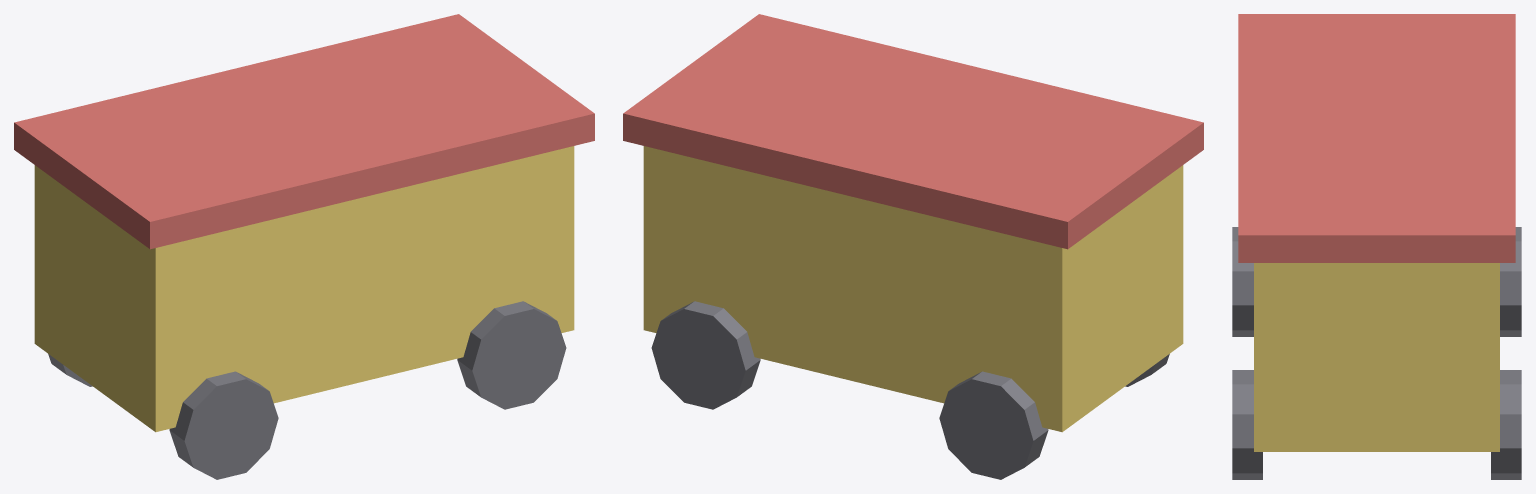
File: vagon.glb
3 renders of one model, left to right at view 1: azimuth 30°, elevation 25°; view 2: azimuth 150°, elevation 25°; view 3: azimuth 270°, elevation 25°, orthographic.
Parts seen in each view (by area): view 1: vagon; view 2: vagon; view 3: vagon.
Part boxes in pixels (x1=…): vagon: x1=14, y1=14, x2=594, y2=479; vagon: x1=623, y1=14, x2=1203, y2=479; vagon: x1=1232, y1=14, x2=1521, y2=479.
Size of the model in its own units: 1.7 by 0.9912 by 0.94.
